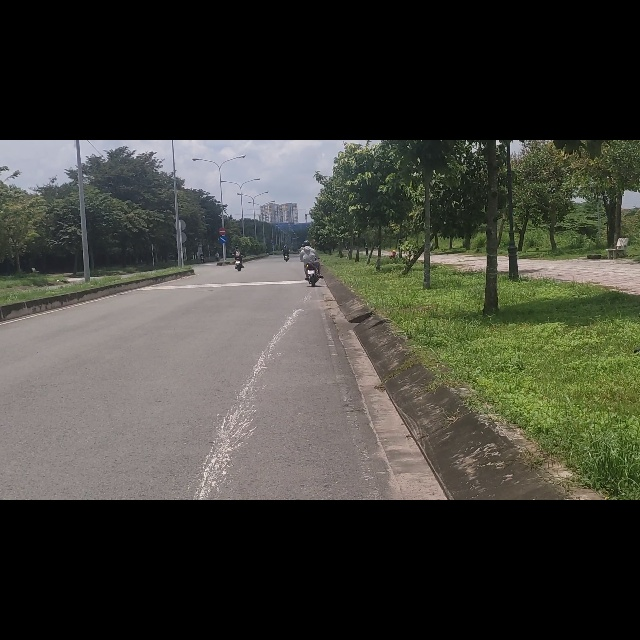bien_cam: (219, 170, 227, 184), (219, 155, 226, 168)
